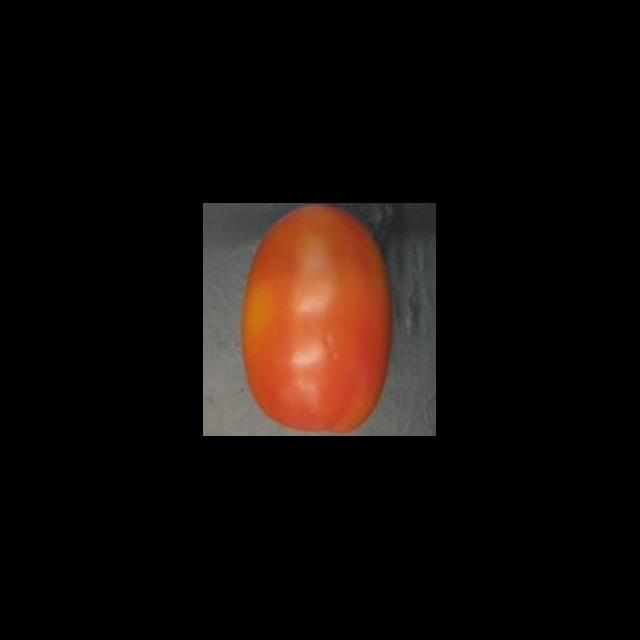tomato: (232, 204, 404, 436)
